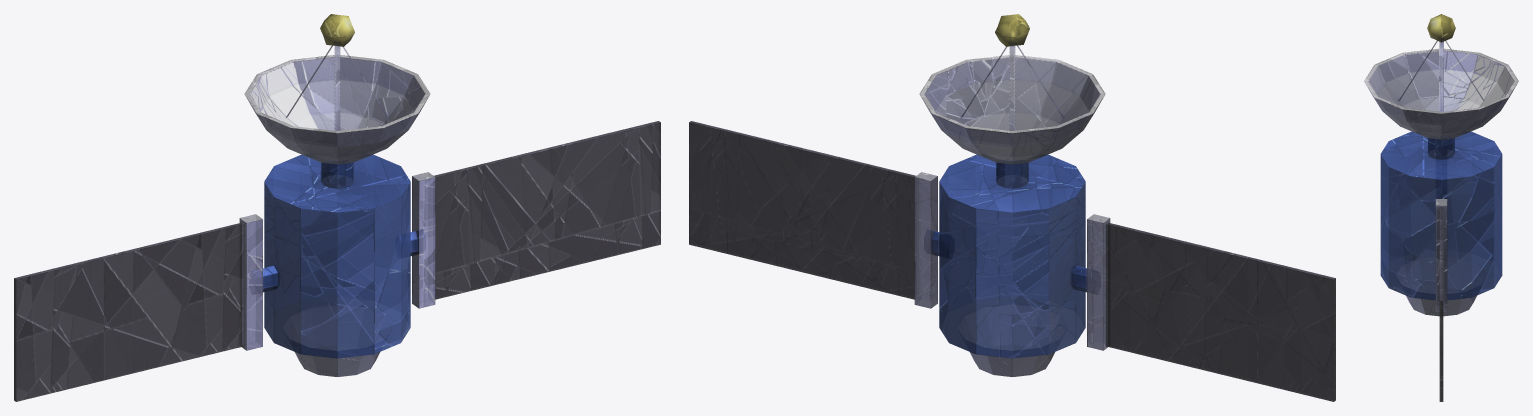
File: MD_eisei.fbx
3 renders of one model, left to right at view 1: azimuth 30°, elevation 25°; view 2: azimuth 150°, elevation 25°; view 3: azimuth 270°, elevation 25°, orthographic. The views are drawn at different scales.
Visible parts, largest first — view 1: eisei_ketugou; view 2: eisei_ketugou; view 3: eisei_ketugou.
Part boxes in pixels (<box>): eisei_ketugou: <box>14,14,660,401</box>; eisei_ketugou: <box>689,14,1335,401</box>; eisei_ketugou: <box>1364,14,1518,401</box>.
Bounding box in the file's own units: 831 × 426 × 208.
